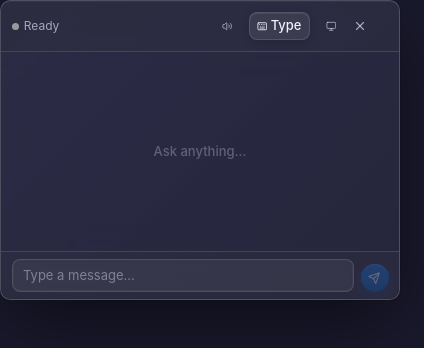
Test: Voice Recording Flow — PTT Mode › shows correct status states during PTT flow
Expected: the text "Ready" is shown, [24,17,59,35]
Click the button with aria-label "Switch mode" at (279, 26), box [249,12,310,40]
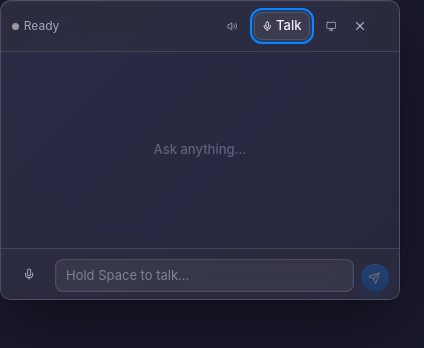
// Start recording
Click the button named "Start recording" at (30, 274), box [12,256,48,292]
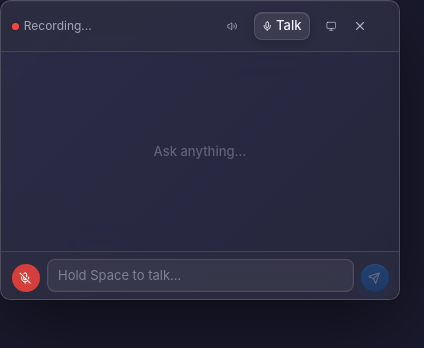
Expected: the text "Recording..." is shown, [24,17,92,35]
// Stop recording
Click the button named "Stop recording" at (26, 278), box [12,264,40,292]
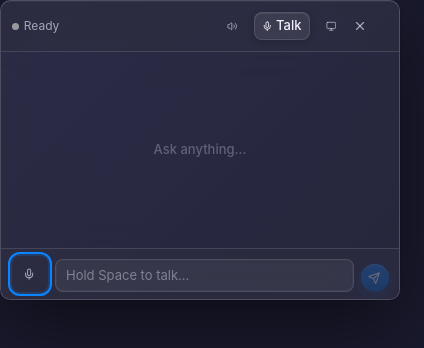
Expected: the text "Recording..." is gone
